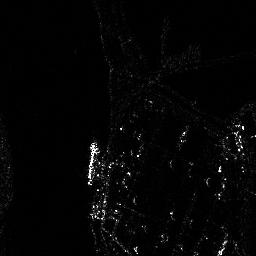ship: (85, 141, 100, 187)
